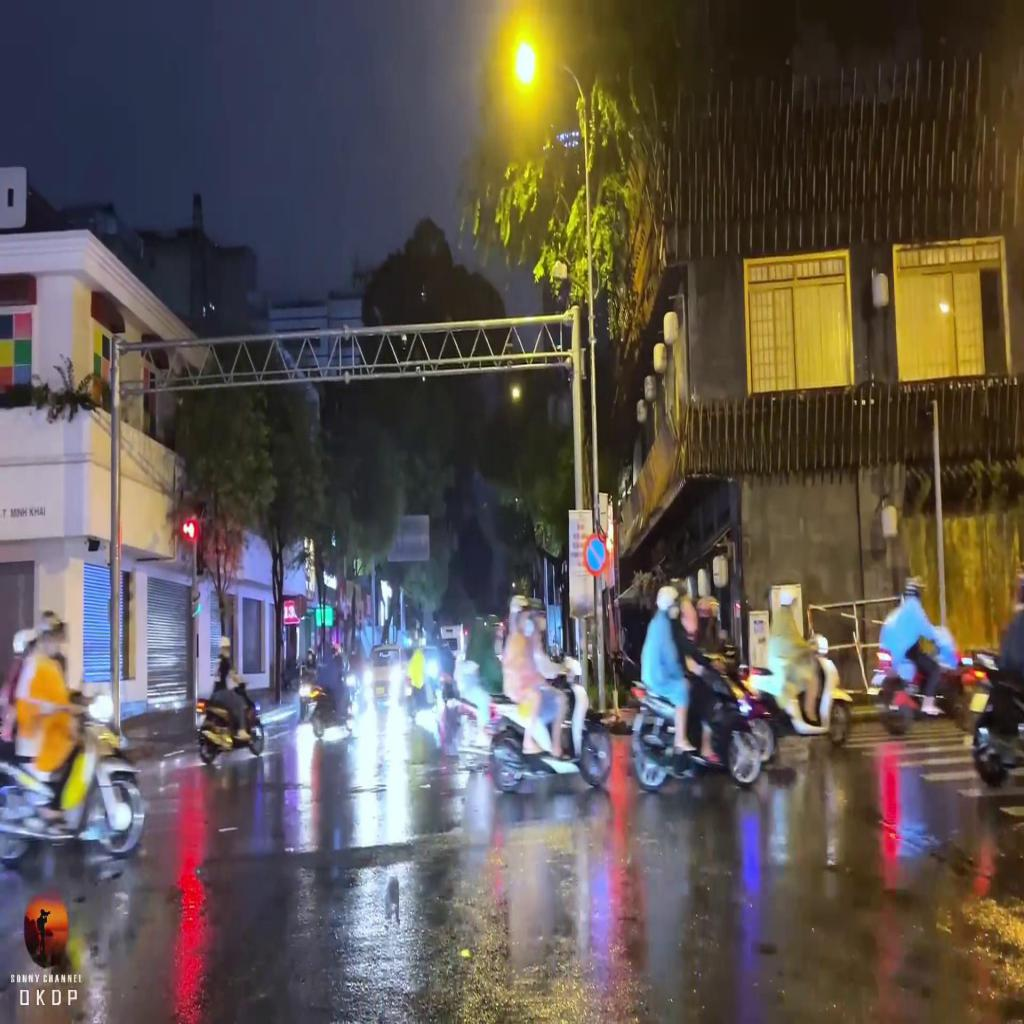cam_do_xe: (584, 531, 609, 576)
